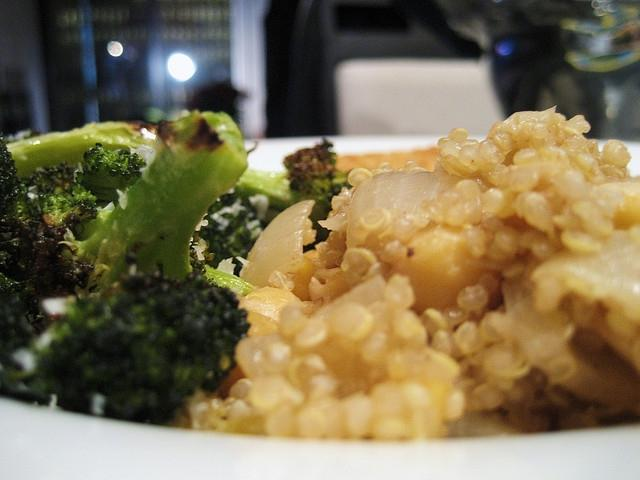broccoli: (26, 111, 251, 424), (0, 132, 55, 398), (237, 135, 354, 252), (6, 122, 139, 180), (195, 186, 262, 276), (28, 211, 94, 299), (21, 160, 98, 227), (75, 142, 147, 208), (202, 267, 258, 296)
onion: (527, 232, 640, 325), (347, 158, 462, 247), (240, 199, 318, 289), (505, 282, 574, 368), (311, 274, 388, 319), (237, 286, 302, 323)
